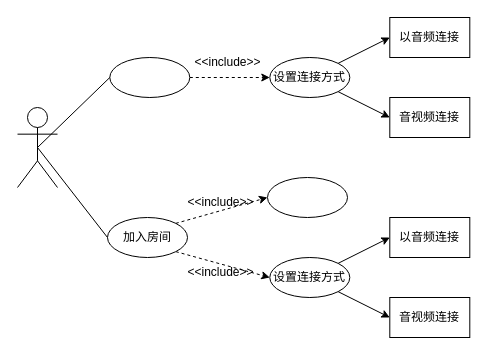
This 488x355 diagram has some shape labels left out. Each missing label, with the centre of its shape:
User: (37,147)
创建房间: (149,77)
输入房间号: (307,197)
